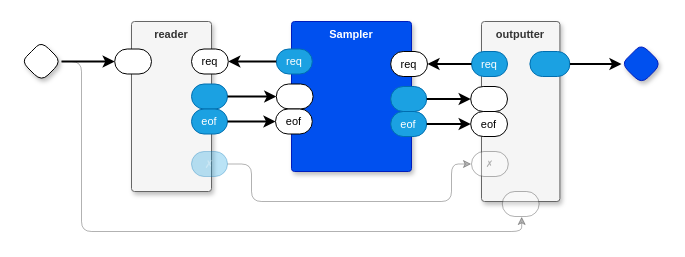
The diagram is 685 pixels wide and 257 high, and some of its shapes have lost their labels. The centre of each missing label's shape, as x and y in pixels:
"filename" goes at (x=133, y=61).
"go" goes at (x=520, y=203).
